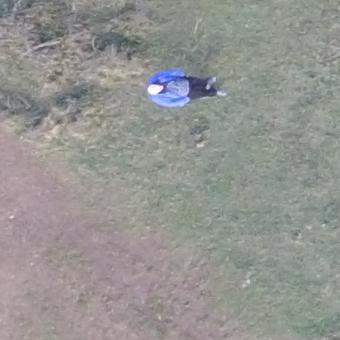human: (144, 68, 228, 107)
